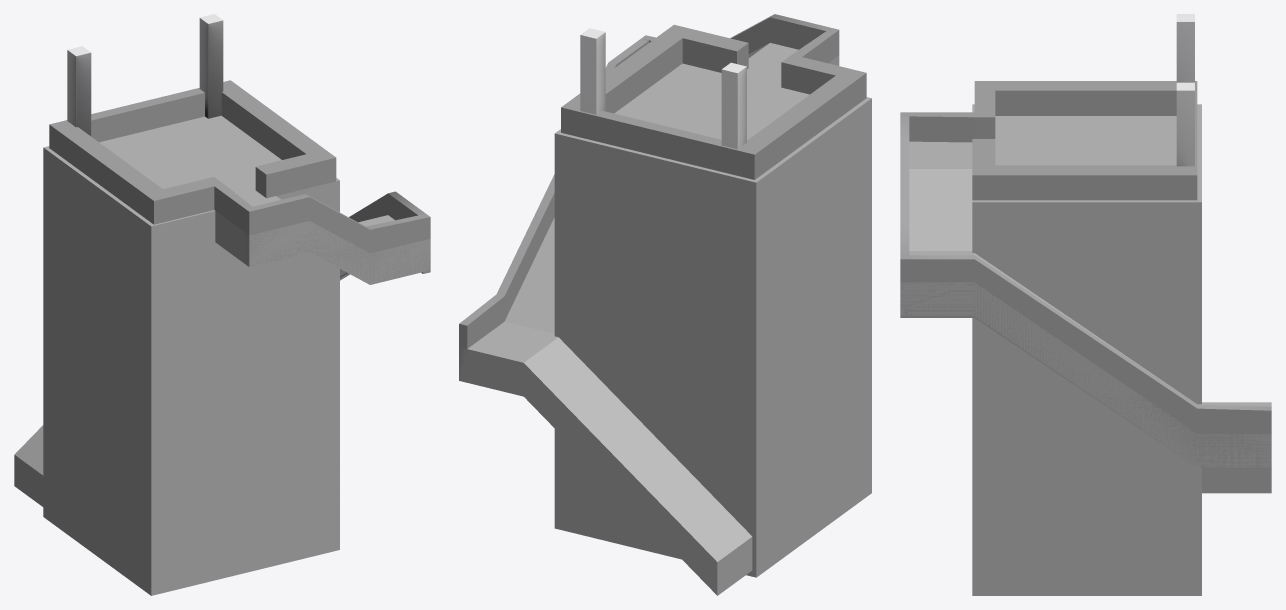
File: sculptors_loft_collision_map.fbx
3 views of the same model, side by side, from view 1: azimuth 30°, elevation 25°; view 2: azimuth 150°, elevation 25°; view 3: azimuth 270°, elevation 25° (orthographic). The views are drawn at different scales.
Visible parts, largest first — view 1: polySurface104, pCube129, polySurface111, polySurface113, polySurface112, pCube130, polySurface105, polySurface110, polySurface219, polySurface97, polySurface218, polySurface103 (+2 smaller); view 2: polySurface104, polySurface98, polySurface112, polySurface111, pCube128, polySurface96, polySurface113, polySurface108, pCube130, polySurface110, pCube129, polySurface219 (+2 smaller); view 3: polySurface104, pCube128, polySurface108, polySurface113, polySurface111, polySurface103, pCube130, polySurface97, polySurface96, polySurface98, polySurface105, polySurface219 (+4 smaller).
Part boxes in pixels (x1,y1,x2,y2): polySurface104: [43, 115, 339, 595]; pCube129: [245, 194, 430, 284]; polySurface111: [49, 120, 172, 224]; polySurface113: [221, 81, 333, 161]; polySurface112: [49, 80, 236, 147]; pCube130: [144, 177, 256, 234]; polySurface105: [215, 196, 309, 266]; polySurface110: [255, 149, 336, 198]; polySurface219: [199, 14, 223, 118]; polySurface97: [358, 215, 430, 284]; polySurface218: [67, 46, 91, 136]; polySurface103: [277, 197, 369, 284]; polySurface104: [554, 63, 871, 577]; polySurface98: [523, 337, 752, 595]; polySurface112: [561, 102, 761, 179]; polySurface111: [735, 68, 866, 178]; pCube128: [459, 39, 648, 380]; polySurface96: [459, 322, 558, 396]; polySurface113: [565, 26, 691, 113]; polySurface108: [504, 217, 554, 333]; pCube130: [781, 28, 866, 98]; polySurface110: [662, 24, 748, 72]; pCube129: [641, 14, 839, 60]; polySurface219: [580, 28, 605, 114]; polySurface104: [972, 104, 1201, 595]; pCube128: [900, 255, 1271, 467]; polySurface108: [974, 253, 1197, 466]; polySurface113: [974, 165, 1196, 200]; polySurface111: [974, 81, 1196, 115]; polySurface103: [909, 169, 972, 250]; pCube130: [900, 81, 995, 142]; polySurface97: [900, 251, 974, 315]; polySurface96: [1197, 402, 1271, 467]; polySurface98: [1202, 467, 1271, 493]; polySurface105: [909, 141, 972, 168]; polySurface219: [1176, 82, 1194, 166].
Bounding box in the file's own units: 16.25 × 29.38 × 20.
3 materials, 1 textured.
